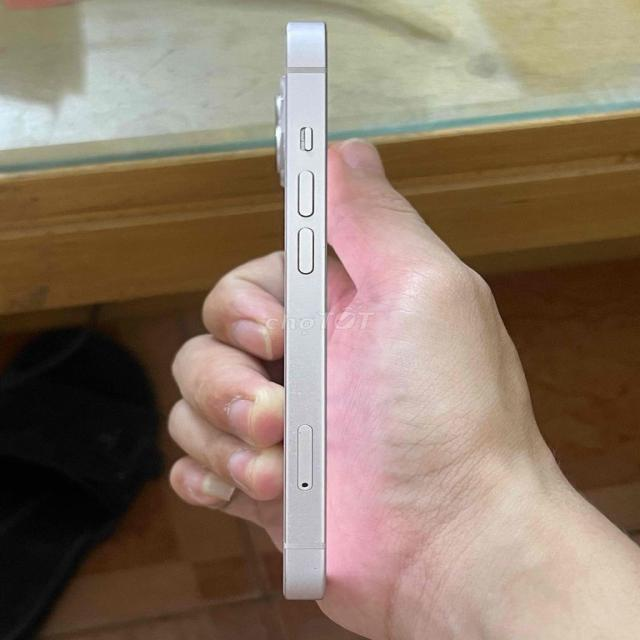gen_12_13: (250, 13, 347, 615)
